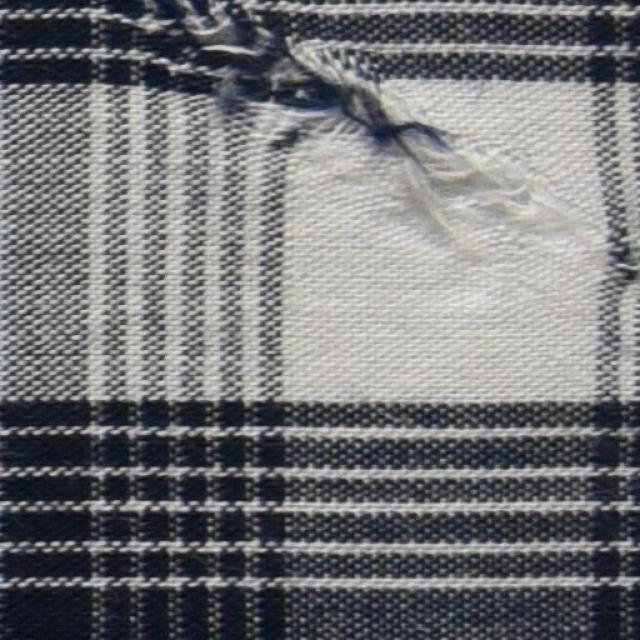Snag: (163, 0, 606, 262)
